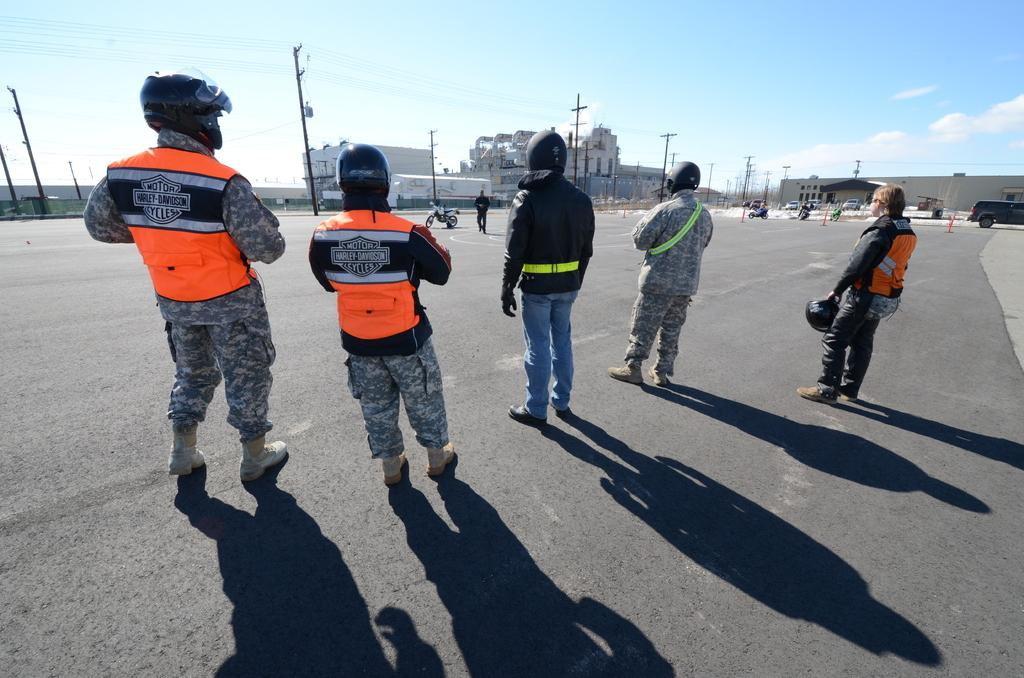helmet: (139, 66, 233, 150), (335, 143, 392, 201), (526, 130, 568, 175), (805, 295, 844, 333), (665, 161, 701, 192)
nohelmet: (869, 183, 907, 220)
